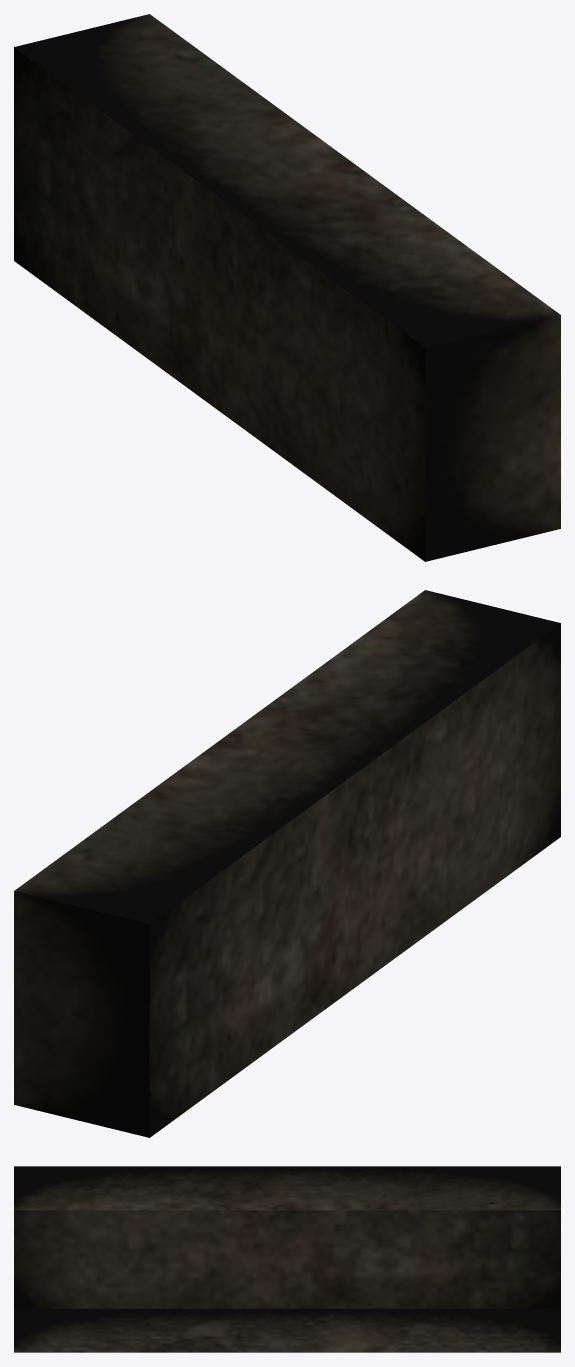
Rendered from WindowBlind.FBX.
3 views of the same model, one above another, from view 1: azimuth 30°, elevation 25°; view 2: azimuth 150°, elevation 25°; view 3: azimuth 270°, elevation 25° (orthographic). The views are drawn at different scales.
Visible parts, largest first — view 1: WindowBlind; view 2: WindowBlind; view 3: WindowBlind.
Boxes of the visible parts, <box> form: WindowBlind: <box>14,14,560,561</box>; WindowBlind: <box>14,590,560,1137</box>; WindowBlind: <box>14,1166,560,1352</box>.
Size of the model in its own units: 153 by 230 by 801.
